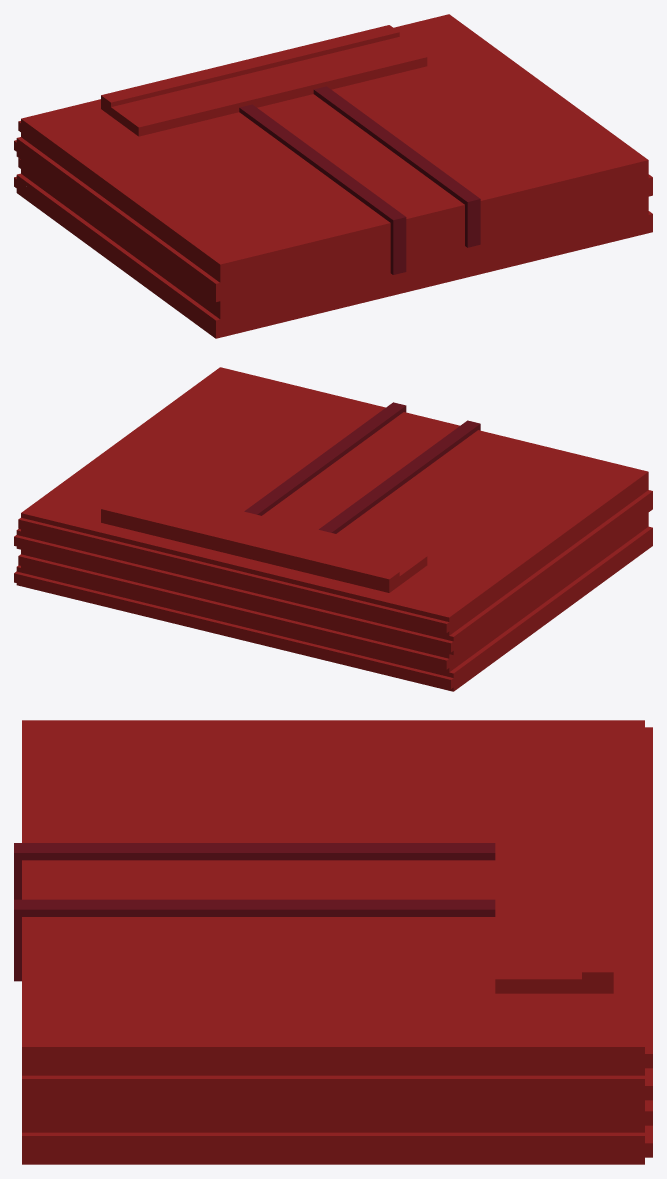
File: cape_catholic.glb
3 renders of one model, top to bottom at view 1: azimuth 30°, elevation 25°; view 2: azimuth 150°, elevation 25°; view 3: azimuth 270°, elevation 25°, orthographic. The views are drawn at different scales.
Visible parts, largest first — view 1: cape_catholic:compound; view 2: cape_catholic:compound; view 3: cape_catholic:compound.
Boxes of the visible parts, x1=… form: cape_catholic:compound: x1=14, y1=14, x2=652, y2=338; cape_catholic:compound: x1=14, y1=367, x2=652, y2=691; cape_catholic:compound: x1=14, y1=720, x2=652, y2=1164.
Size of the model in its own units: 0.4 by 0.076 by 0.324.
